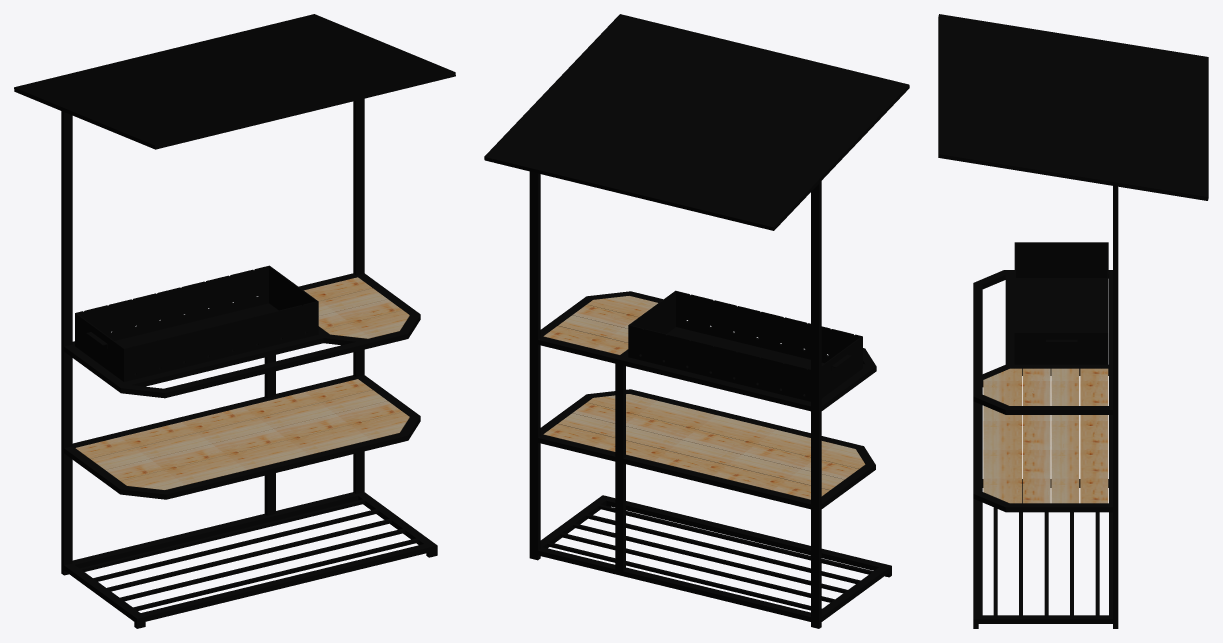
3 renders of one model, left to right at view 1: azimuth 30°, elevation 25°; view 2: azimuth 150°, elevation 25°; view 3: azimuth 270°, elevation 25°, orthographic. The views are drawn at different scales.
Visible parts, largest first — view 1: geometry-lumionModel, geometry-lumionModel.001; view 2: geometry-lumionModel, geometry-lumionModel.001; view 3: geometry-lumionModel, geometry-lumionModel.001.
Part boxes in pixels (x1,y1,x2,y2): geometry-lumionModel: (14, 14, 455, 628); geometry-lumionModel.001: (75, 277, 409, 489); geometry-lumionModel: (484, 14, 909, 628); geometry-lumionModel.001: (543, 296, 865, 499); geometry-lumionModel: (938, 14, 1208, 628); geometry-lumionModel.001: (983, 368, 1108, 503).
Size of the model in its own units: 1.24 by 1.95 by 1.01.
2 materials, 2 textured.
